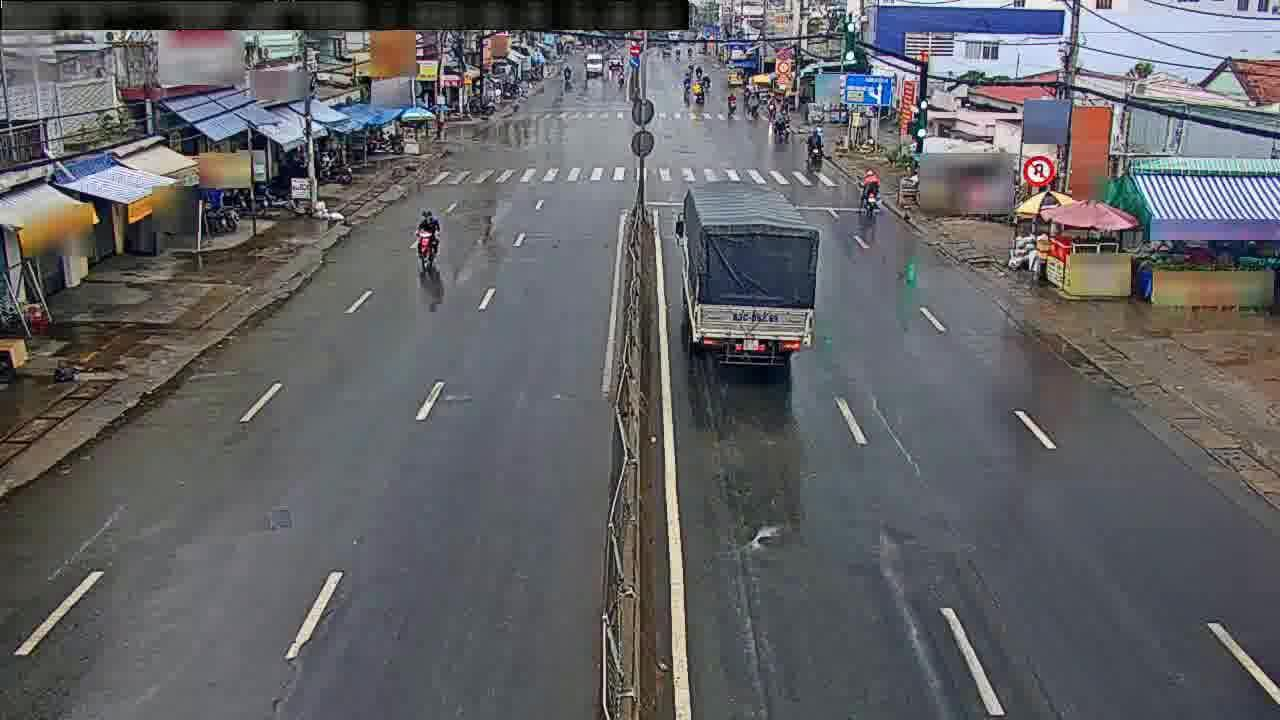8: (671, 175, 821, 365)
motorbike: (410, 208, 442, 272), (858, 166, 884, 220), (801, 124, 826, 176)
